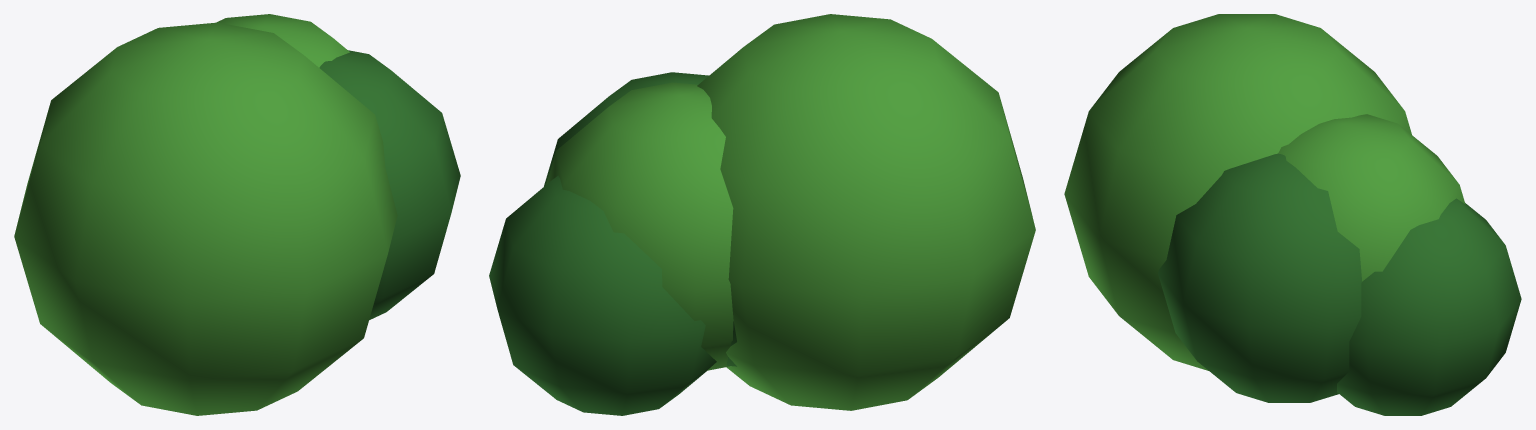
Rendered from prop_semak_a.glb.
3 views of the same model, side by side, from view 1: azimuth 30°, elevation 25°; view 2: azimuth 150°, elevation 25°; view 3: azimuth 270°, elevation 25° (orthographic). The views are drawn at different scales.
Parts seen in each view (by area): view 1: semak_a; view 2: semak_a; view 3: semak_a.
Part boxes in pixels (x1,y1,x2,y2): semak_a: (14,14,460,415); semak_a: (489,14,1035,415); semak_a: (1064,14,1521,415).
Bounding box in the file's own units: 1.58 × 1.3 × 1.62.
